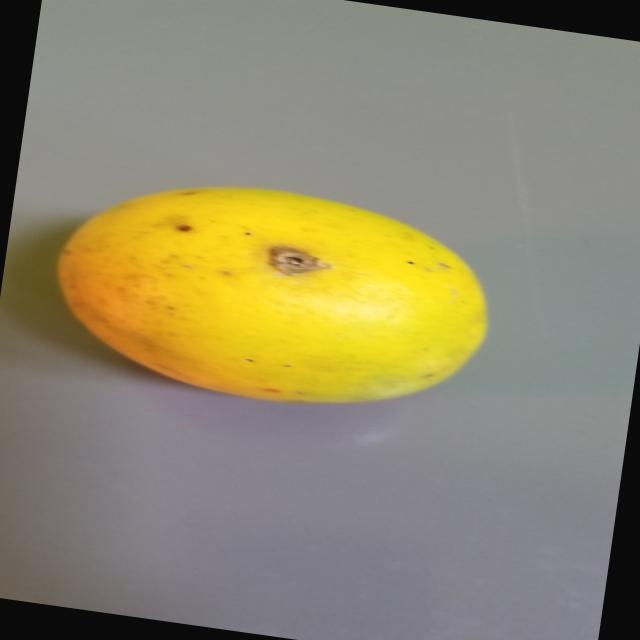agrume: (41, 156, 513, 446)
